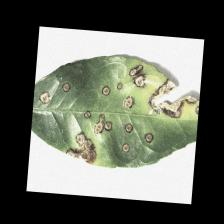canker: (58, 56, 193, 164)
